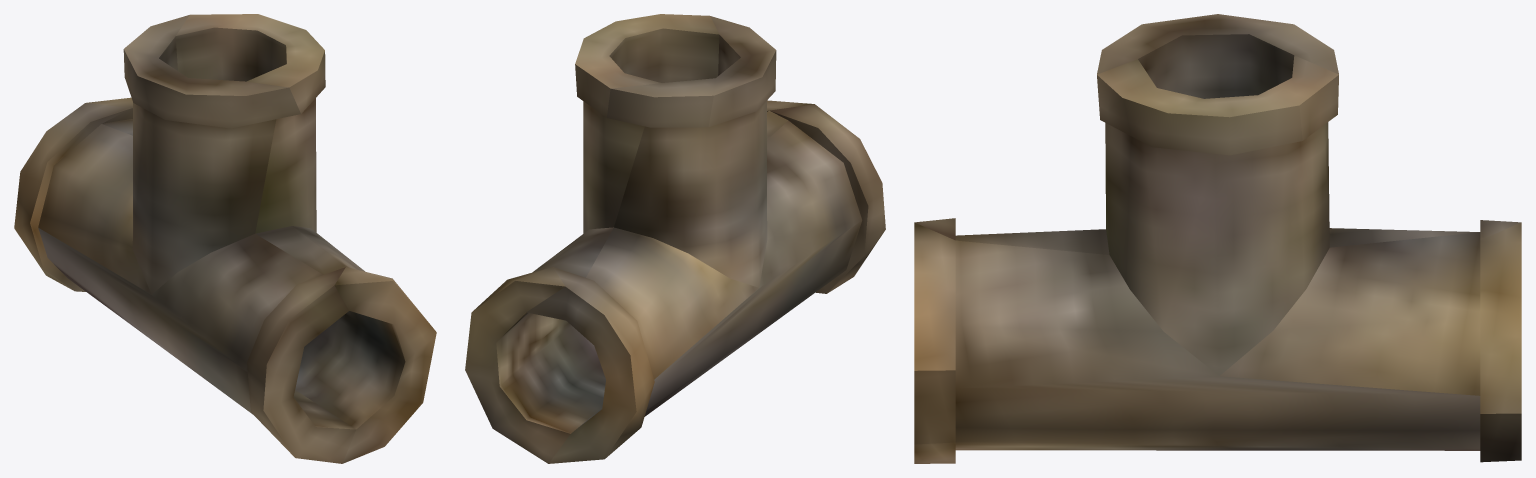
The model's file is pipe-offset.lod1.glb.
3 views of the same model, side by side, from view 1: azimuth 30°, elevation 25°; view 2: azimuth 150°, elevation 25°; view 3: azimuth 270°, elevation 25° (orthographic). The views are drawn at different scales.
Parts seen in each view (by area): view 1: pipe-offset; view 2: pipe-offset; view 3: pipe-offset.
Boxes of the visible parts, x1=… form: pipe-offset: x1=14, y1=14, x2=436, y2=463; pipe-offset: x1=465, y1=14, x2=885, y2=463; pipe-offset: x1=914, y1=14, x2=1521, y2=463.
Size of the model in its own units: 0.2845 by 0.4936 by 0.7028.
Materials: 1 (1 with a texture image).
